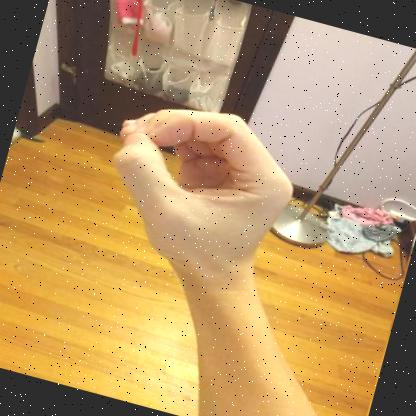O: (112, 109, 292, 290)
